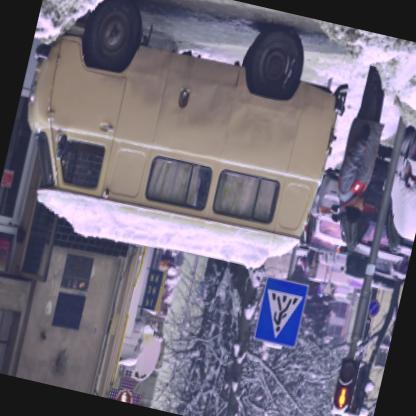crosswalk: (248, 274, 309, 352)
trafficlight: (329, 358, 359, 415), (349, 365, 378, 415)
